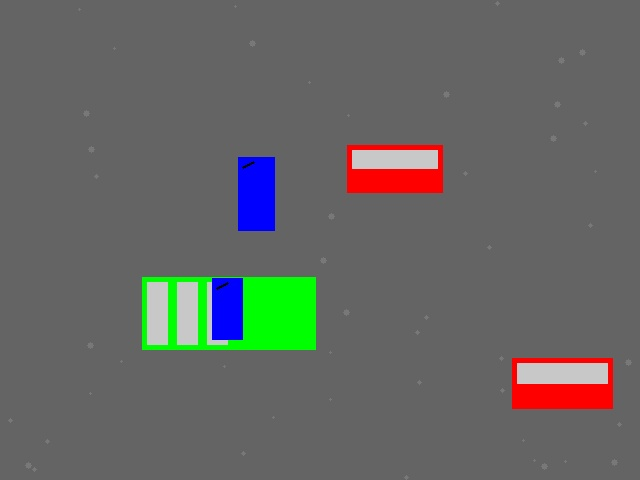bus: (142, 277, 315, 349)
car: (512, 358, 612, 408), (347, 145, 442, 192)
motorcycle: (238, 157, 274, 230), (212, 278, 242, 339)
